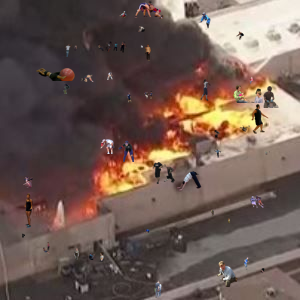Human: (217, 261, 238, 287), (134, 1, 164, 19), (251, 104, 269, 134), (233, 85, 263, 103), (117, 137, 138, 162), (118, 88, 153, 103), (176, 171, 202, 191), (36, 68, 75, 81), (152, 162, 175, 184), (214, 125, 250, 139), (98, 41, 131, 55), (263, 86, 279, 108), (24, 193, 33, 228), (200, 79, 211, 101), (198, 12, 211, 30), (100, 139, 115, 154), (233, 74, 253, 84), (250, 195, 264, 208), (154, 280, 162, 298), (144, 44, 151, 61), (81, 74, 94, 83), (23, 177, 33, 188), (65, 44, 72, 57), (96, 252, 105, 262), (43, 242, 50, 254), (244, 257, 250, 270), (63, 83, 70, 94), (236, 31, 244, 40), (119, 11, 128, 19), (214, 149, 221, 158), (74, 248, 79, 260), (107, 72, 113, 80), (138, 26, 145, 32), (89, 253, 95, 260), (143, 229, 151, 234), (260, 268, 265, 274), (211, 209, 214, 216), (265, 151, 270, 155), (21, 233, 25, 238), (140, 131, 142, 140), (74, 45, 77, 51), (227, 218, 230, 224), (140, 45, 143, 51)
